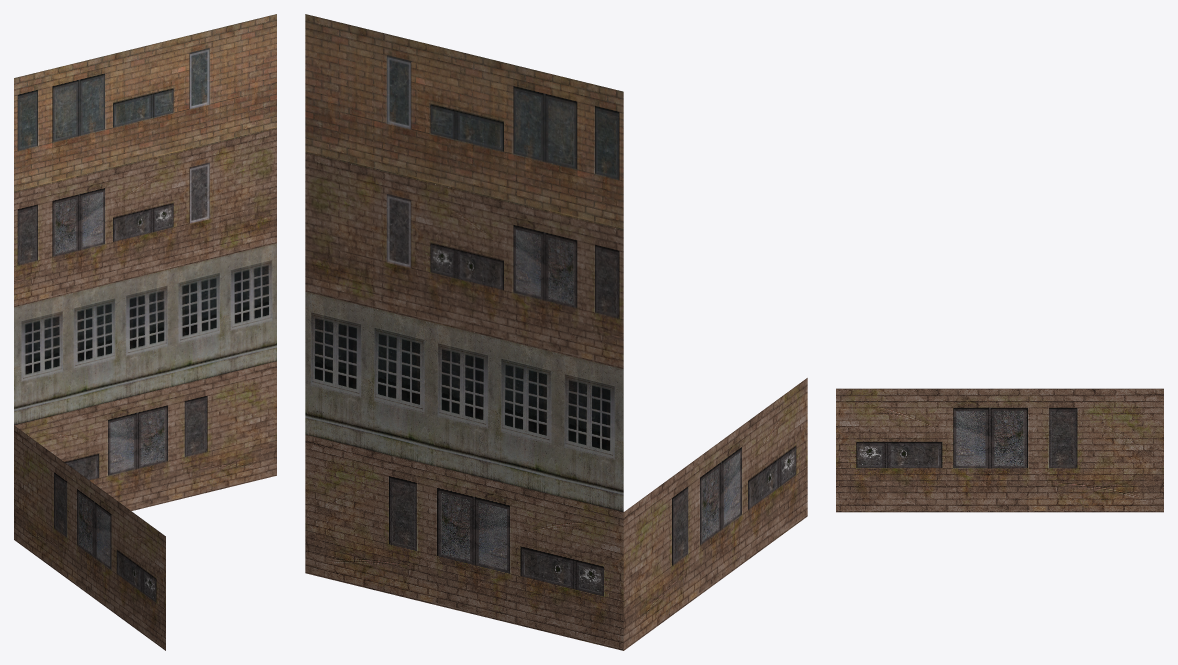
Rendered from Blocks_House_01.fbx.
3 renders of one model, left to right at view 1: azimuth 30°, elevation 25°; view 2: azimuth 150°, elevation 25°; view 3: azimuth 270°, elevation 25°, orthographic. The views are drawn at different scales.
Visible parts, largest first — view 1: Blocks_House_01_A, Blocks_House_01_B, Blocks_House_01_D, Blocks_House_01_C; view 2: Blocks_House_01_A, Blocks_House_01_B, Blocks_House_01_D, Blocks_House_01_C; view 3: Blocks_House_01_A.
Boxes of the visible parts, x1,y1,x2,y2 form: Blocks_House_01_A: (14, 361, 276, 650); Blocks_House_01_B: (14, 243, 276, 425); Blocks_House_01_D: (14, 14, 276, 192); Blocks_House_01_C: (14, 128, 276, 307); Blocks_House_01_A: (305, 378, 807, 650); Blocks_House_01_B: (305, 291, 623, 511); Blocks_House_01_D: (305, 14, 623, 230); Blocks_House_01_C: (305, 153, 623, 369); Blocks_House_01_A: (836, 388, 1163, 512).
Size of the model in its own units: 700 by 1175 by 700.
